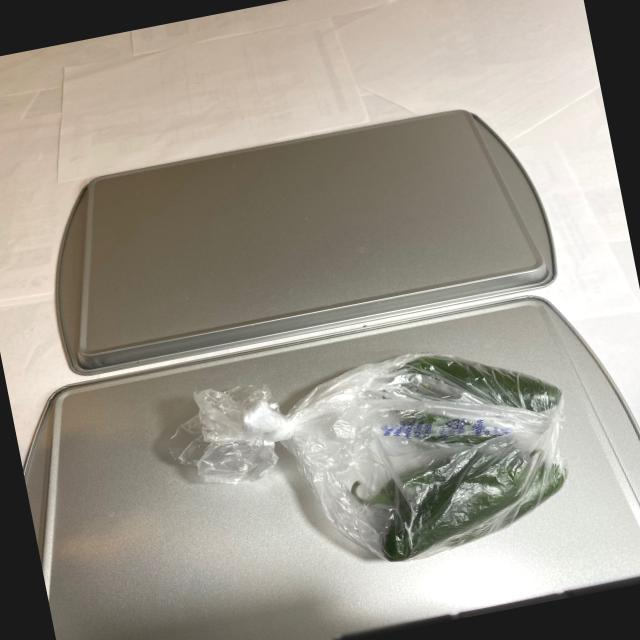chilli: (322, 330, 588, 572)
